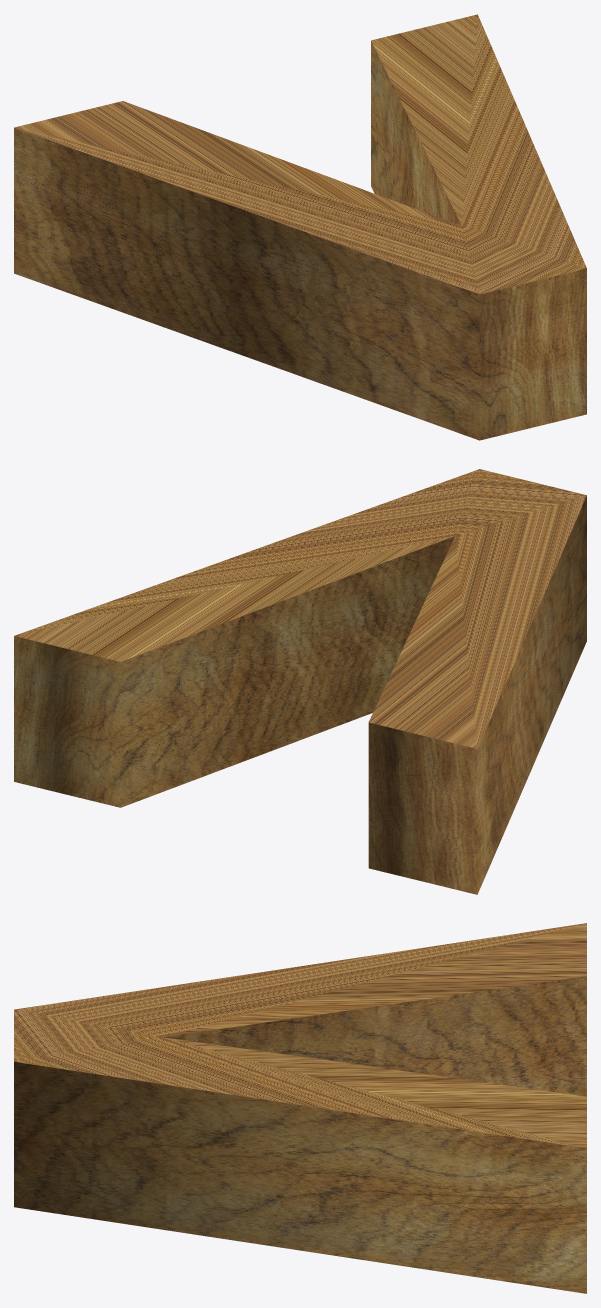
3 views of the same model, one above another, from view 1: azimuth 30°, elevation 25°; view 2: azimuth 150°, elevation 25°; view 3: azimuth 270°, elevation 25° (orthographic).
Visible parts, largest first — view 1: V; view 2: V; view 3: V.
Boxes of the visible parts, left/top/right/bottom form: V: left=14, top=14, right=586, bottom=440; V: left=14, top=469, right=586, bottom=894; V: left=14, top=923, right=586, bottom=1293.
Size of the model in its own units: 46.54 by 14 by 49.98.
Materials: 1 (1 with a texture image).
